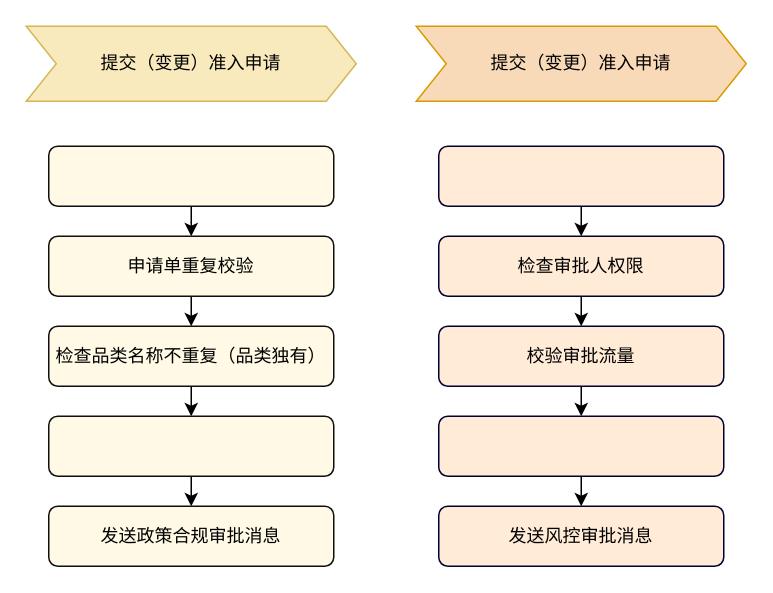
The diagram is 773 pixels wide and 593 high, and some of its shapes have lost their labels. The shapes that lost their labels are listed below. From the top down, each one's centre as x and y in pixels, then its label:
point (190, 175): 检查账户和主体的有效性
point (580, 175): 检查状态-只能是待合规审批
point (190, 445): 保存申请 & 记录申请操作日志
point (580, 445): 更新审批结果和审批日志
